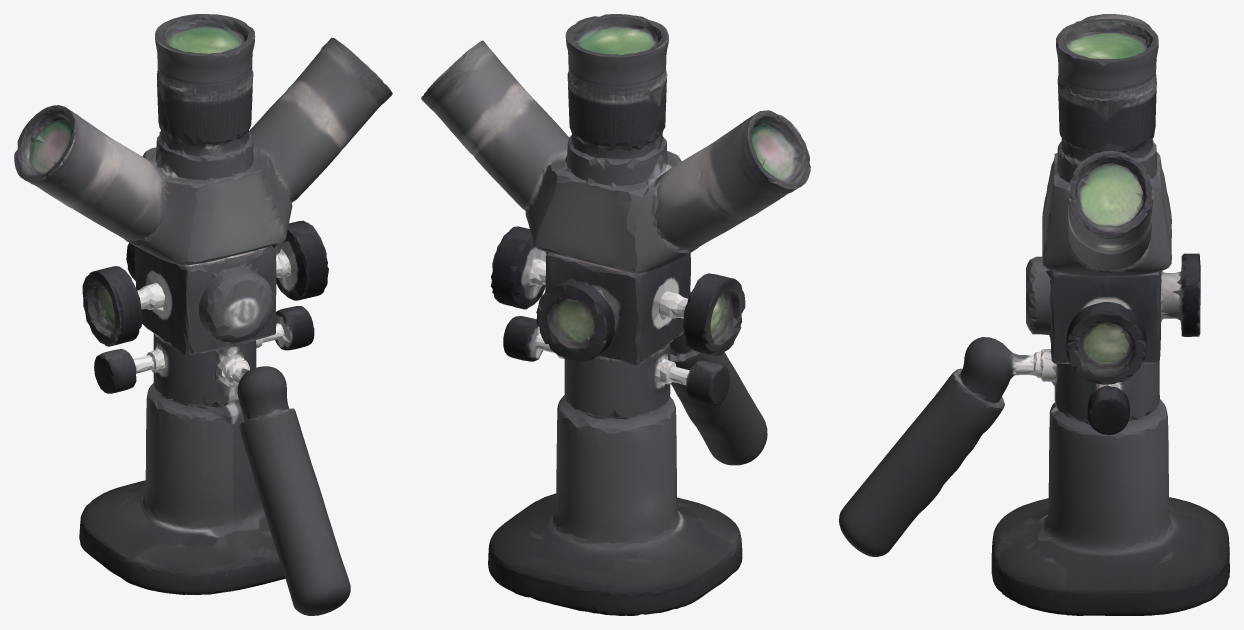
Rendered from ophthalmoscope.glb.
The picture shows the model from 3 angles, left to right: view 1: azimuth 30°, elevation 25°; view 2: azimuth 150°, elevation 25°; view 3: azimuth 270°, elevation 25°; orthographic projection. The views are drawn at different scales.
Visible parts, largest first — view 1: model; view 2: model; view 3: model.
Boxes of the visible parts, box(x1,y1,x2,y2) form: model: box(14, 14, 392, 615); model: box(421, 14, 810, 615); model: box(839, 14, 1229, 615).
Size of the model in its own units: 1.41 by 1.9 by 1.28.
1 material, 1 textured.
